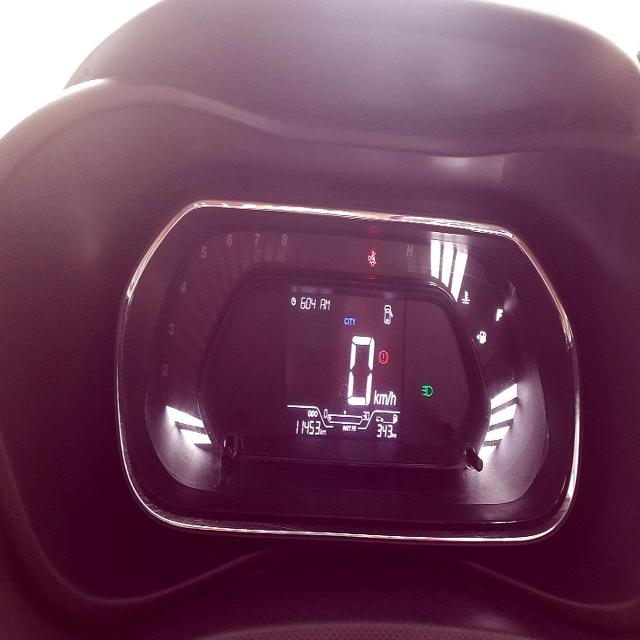odometer: (295, 416, 321, 438)
